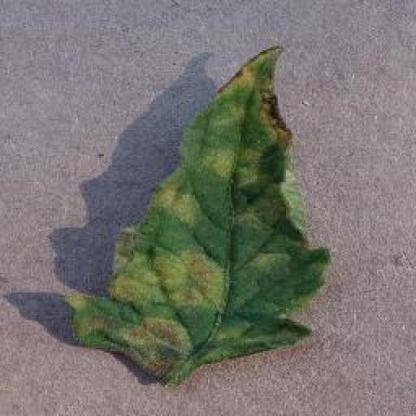Tomato_Leaf_Mold: (69, 49, 330, 383)
